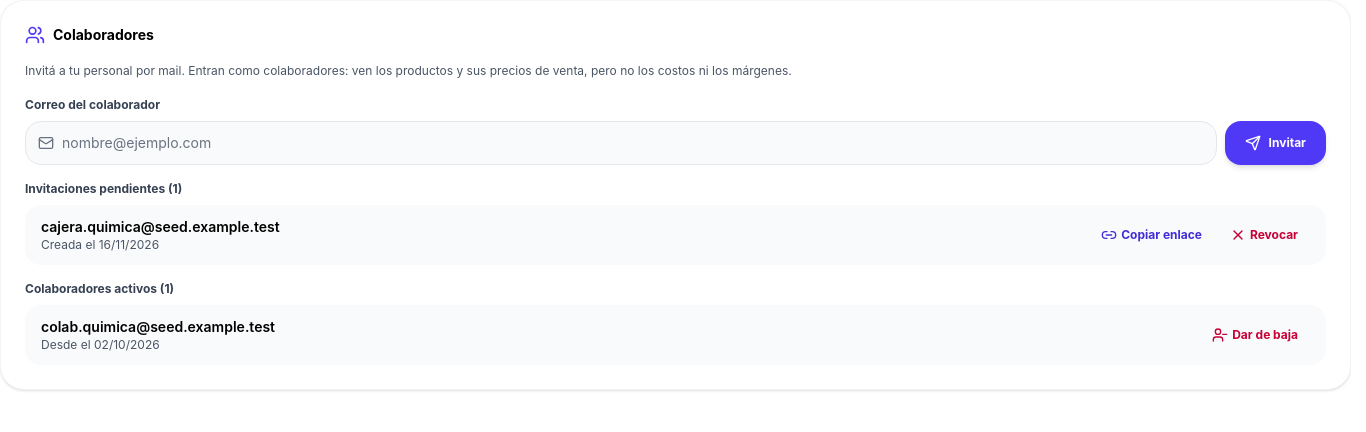
CollaboratorsSection (Perfil, solo ADMIN) › muestra el mensaje de la API si el correo ya existe (409)
This screenshot has width=1366, height=432.
expect the text "colab.quimica@seed.example.test" is shown: met, box [41, 318, 275, 334]
In the field labelled "Correo del colaborador": (633, 142) [62, 124, 1204, 160], type "colab.quimica@seed.example.test"
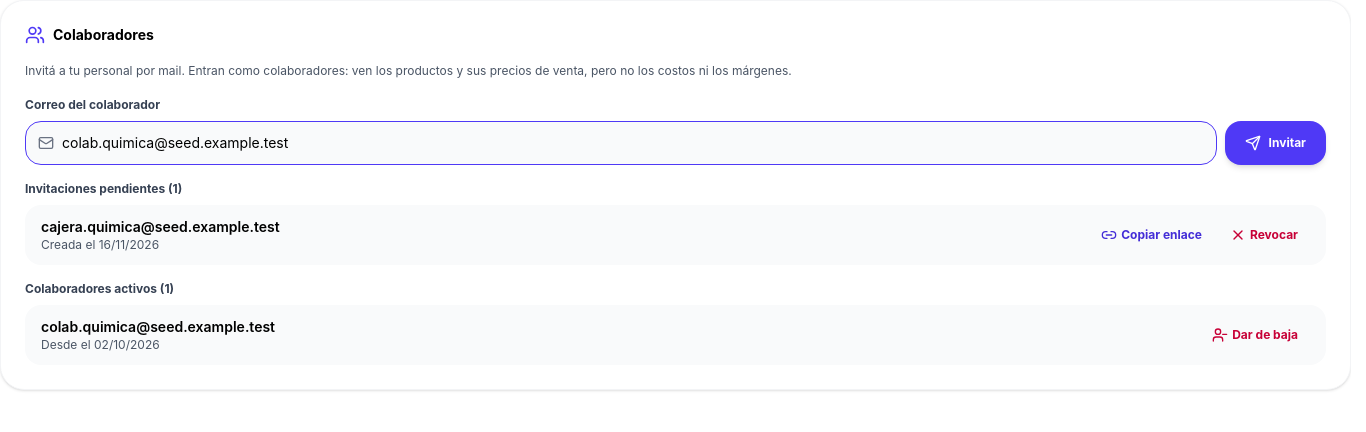
Click the button "Invitar": (1275, 142) [1225, 120, 1326, 164]
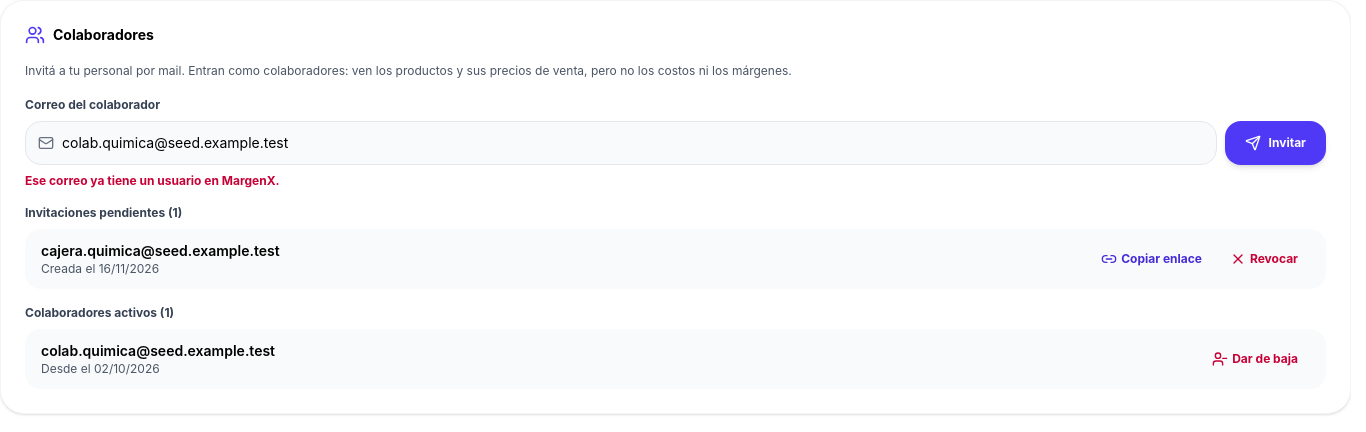
expect the message reads "Ese correo ya tiene un usuario en MargenX.": met, box [25, 172, 280, 188]
